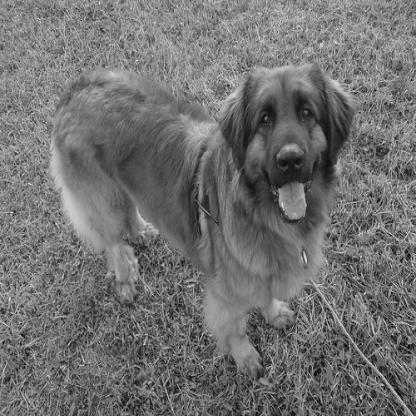Leonberger: (31, 30, 378, 387)
